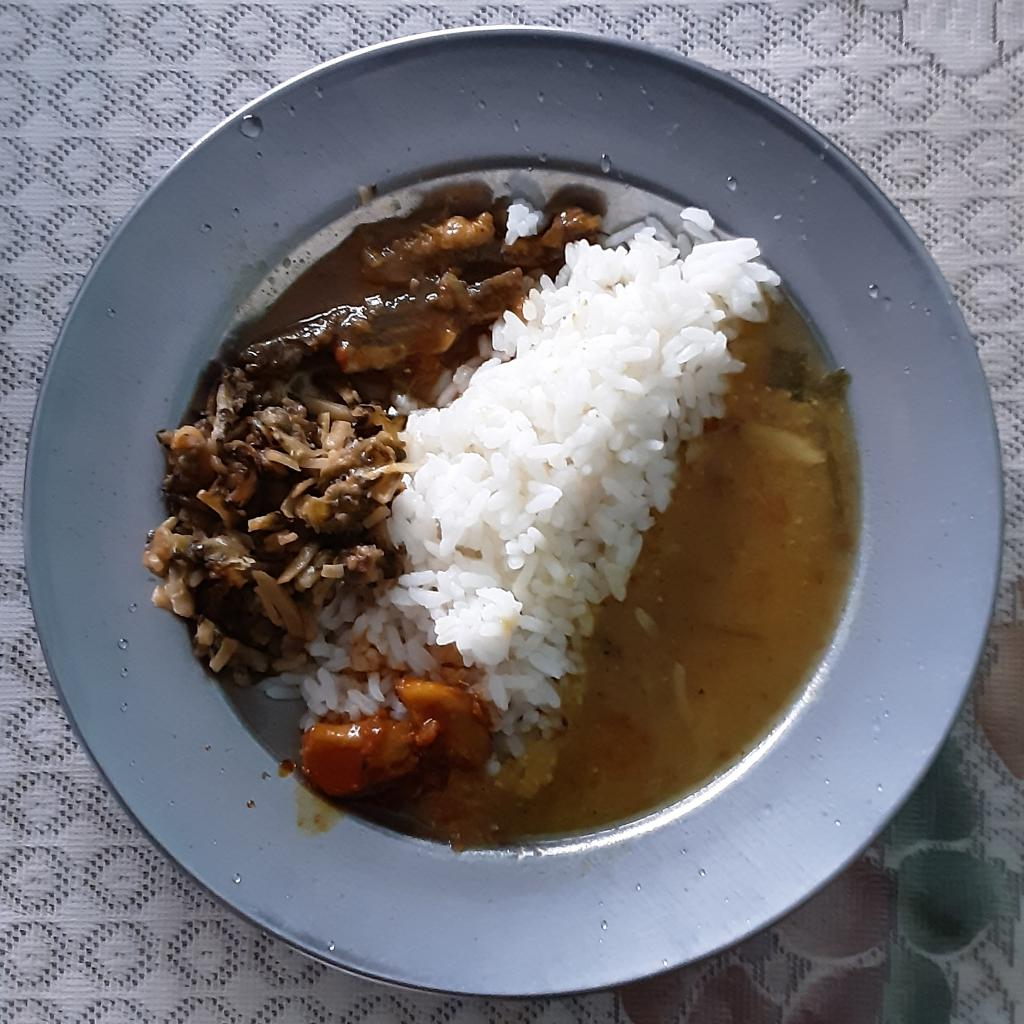daal: (403, 287, 861, 854), (300, 672, 495, 797)
fish: (231, 188, 603, 386)
korola-vaji: (141, 362, 406, 684)
rice: (263, 201, 781, 736)
